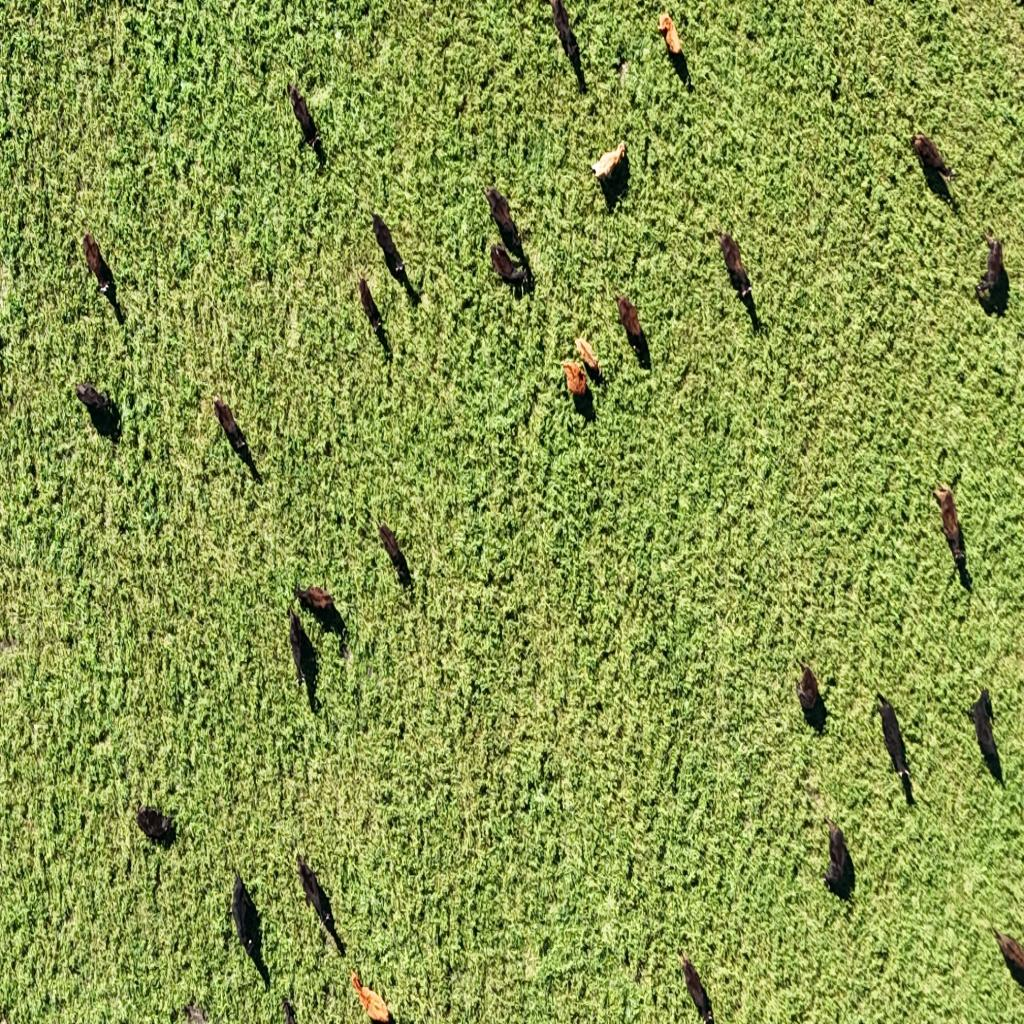cow: (297, 852, 343, 954), (877, 696, 917, 802), (930, 479, 970, 575), (968, 687, 1001, 780), (288, 606, 316, 708), (678, 949, 716, 1024), (231, 870, 261, 965), (484, 186, 523, 256), (717, 231, 754, 301), (823, 818, 855, 898), (76, 382, 119, 440), (372, 212, 406, 282), (349, 966, 391, 1022), (990, 925, 1024, 994), (83, 231, 115, 301), (378, 525, 413, 588), (913, 132, 956, 183), (489, 244, 531, 296), (289, 84, 320, 152), (213, 398, 249, 456), (133, 802, 178, 848), (616, 294, 647, 360), (546, 0, 579, 61), (588, 141, 626, 193), (295, 583, 338, 623), (979, 231, 1005, 295), (359, 273, 384, 333), (796, 663, 823, 717), (574, 336, 604, 384), (658, 12, 683, 56), (562, 359, 588, 400)
